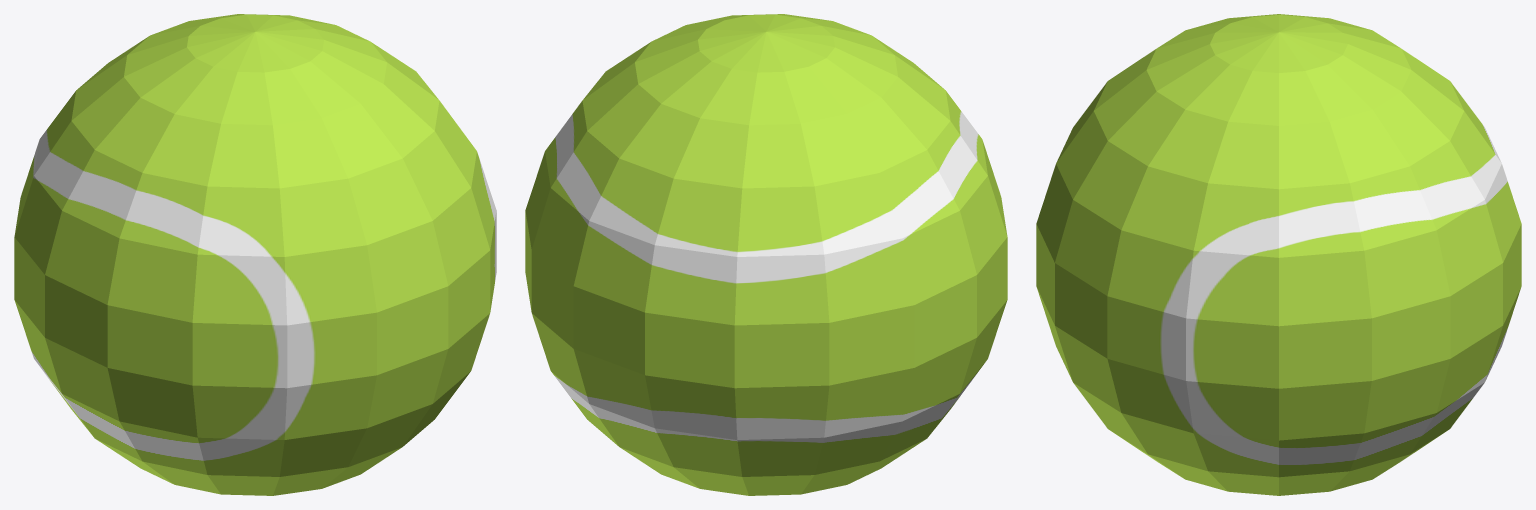
Rendered from Tennis Ball.fbx.
3 views of the same model, side by side, from view 1: azimuth 30°, elevation 25°; view 2: azimuth 150°, elevation 25°; view 3: azimuth 270°, elevation 25° (orthographic).
Parts seen in each view (by area): view 1: Tennis Ball; view 2: Tennis Ball; view 3: Tennis Ball.
Boxes of the visible parts, x1=… form: Tennis Ball: x1=14, y1=14, x2=496, y2=495; Tennis Ball: x1=525, y1=14, x2=1007, y2=495; Tennis Ball: x1=1036, y1=14, x2=1521, y2=495.
Size of the model in its own units: 0.0853 by 0.0864 by 0.0853.
